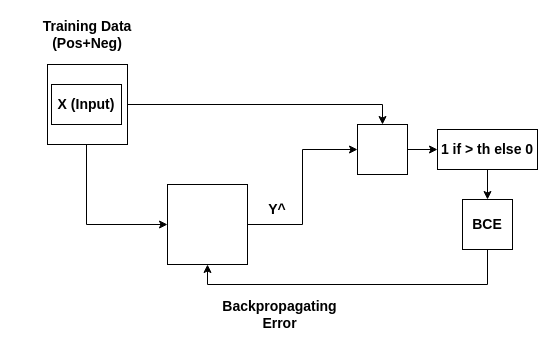
Some shapes in this 555 by 351 pixel diagram are drawn without their labels. Here are the shapes that lost their labels. From the top down, the centre of each, then its label:
At (x=382, y=149): "F (spec.)".
At (x=207, y=224): "GCLN".
